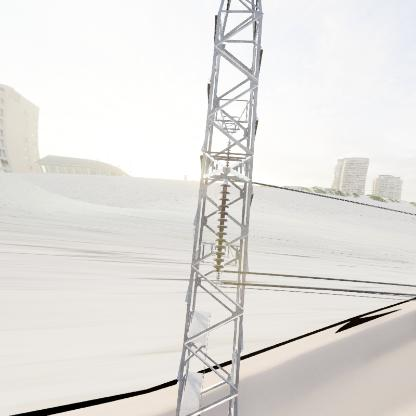insulator: (209, 182, 231, 278)
